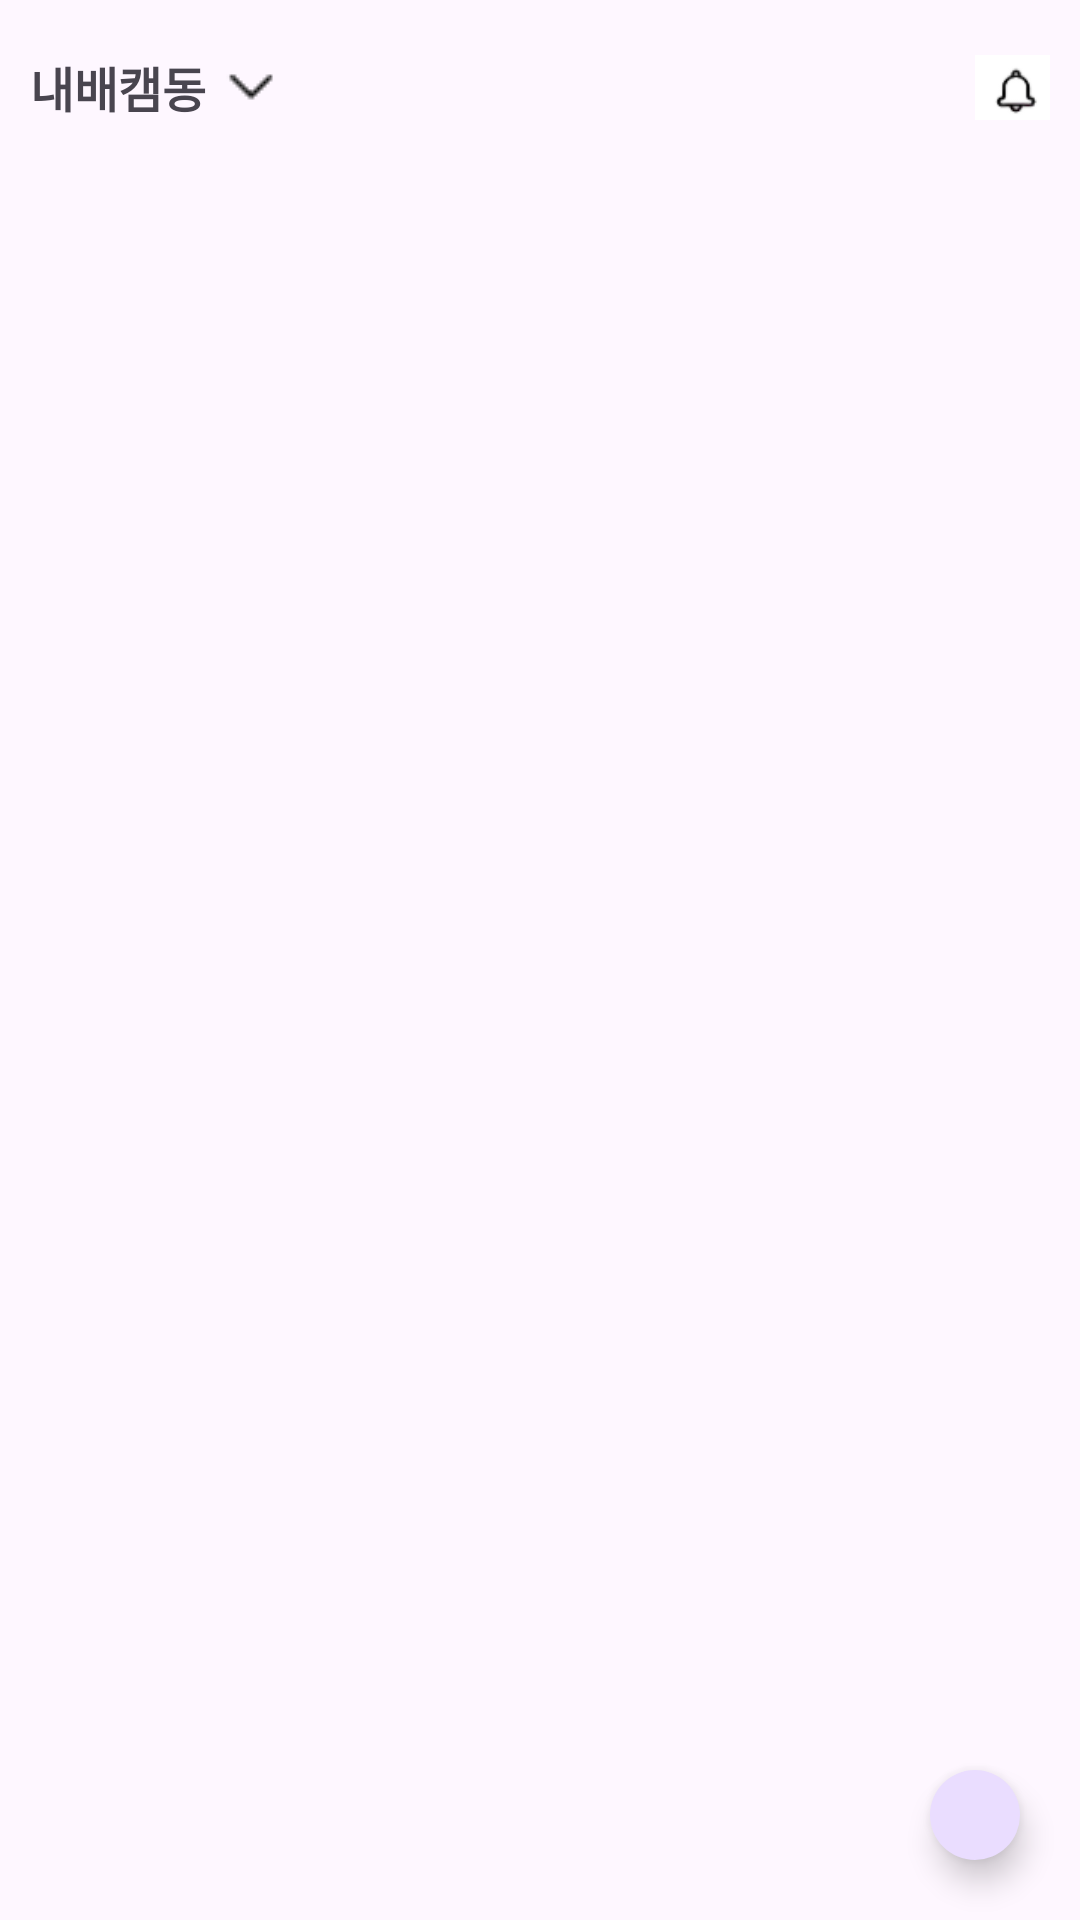

Named icons in this screenshot (1080x1920) and their centers, [x,y]:
bell: [1016,90]
down: [251,87]
